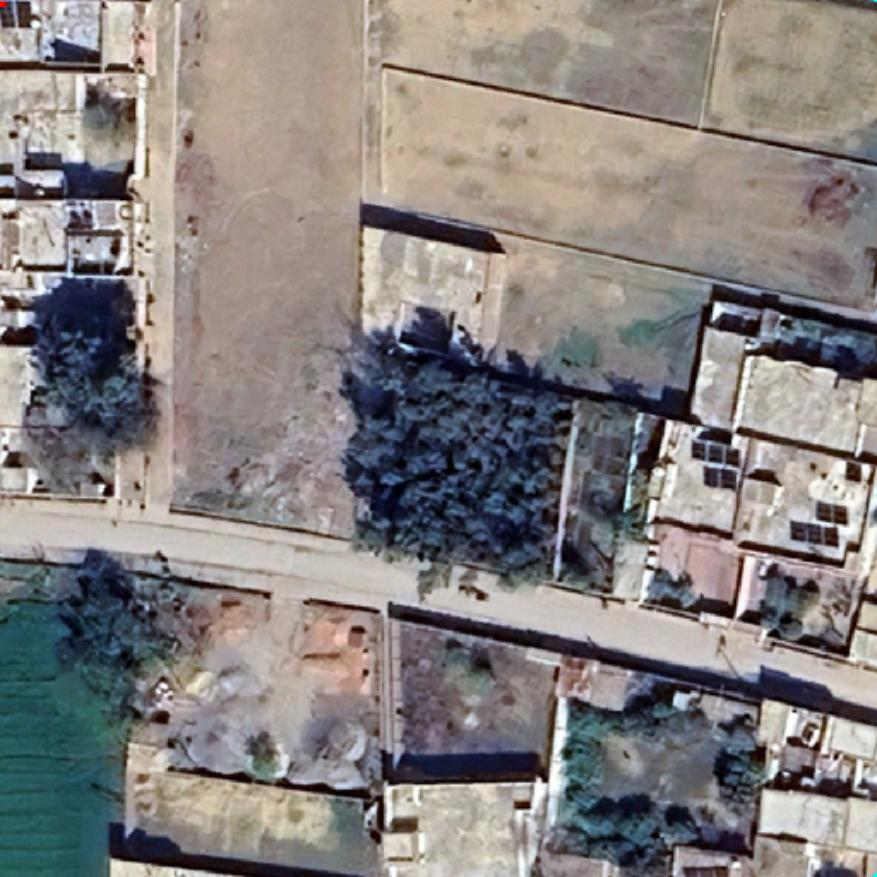Solarpanel: (784, 516, 844, 550), (687, 434, 745, 469), (811, 495, 853, 529), (698, 462, 742, 493), (0, 0, 37, 32), (841, 456, 868, 486), (680, 862, 734, 876)
